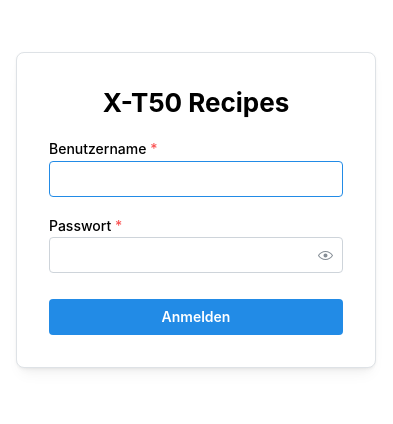
Scenario: LoginPage › shows error message on login failure
The width and height of the screenshot is (393, 424).
Type "admin" into the field labelled "Benutzername *" at (196, 178), box [49, 160, 343, 196]
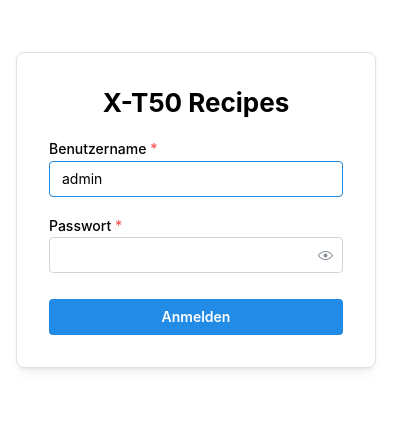
Type "wrong" into the password field labelled "Passwort *" at (196, 255), box [50, 238, 342, 272]
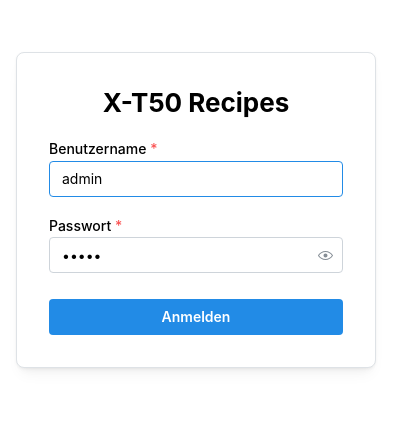
Click the button "Anmelden" at (196, 317), box [49, 299, 343, 335]
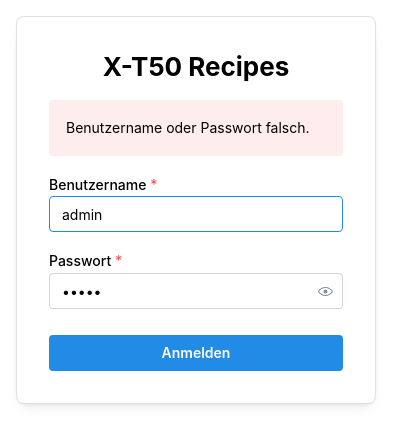
Now the text "Benutzername oder Passwort falsch." is shown, box [66, 117, 326, 139]
